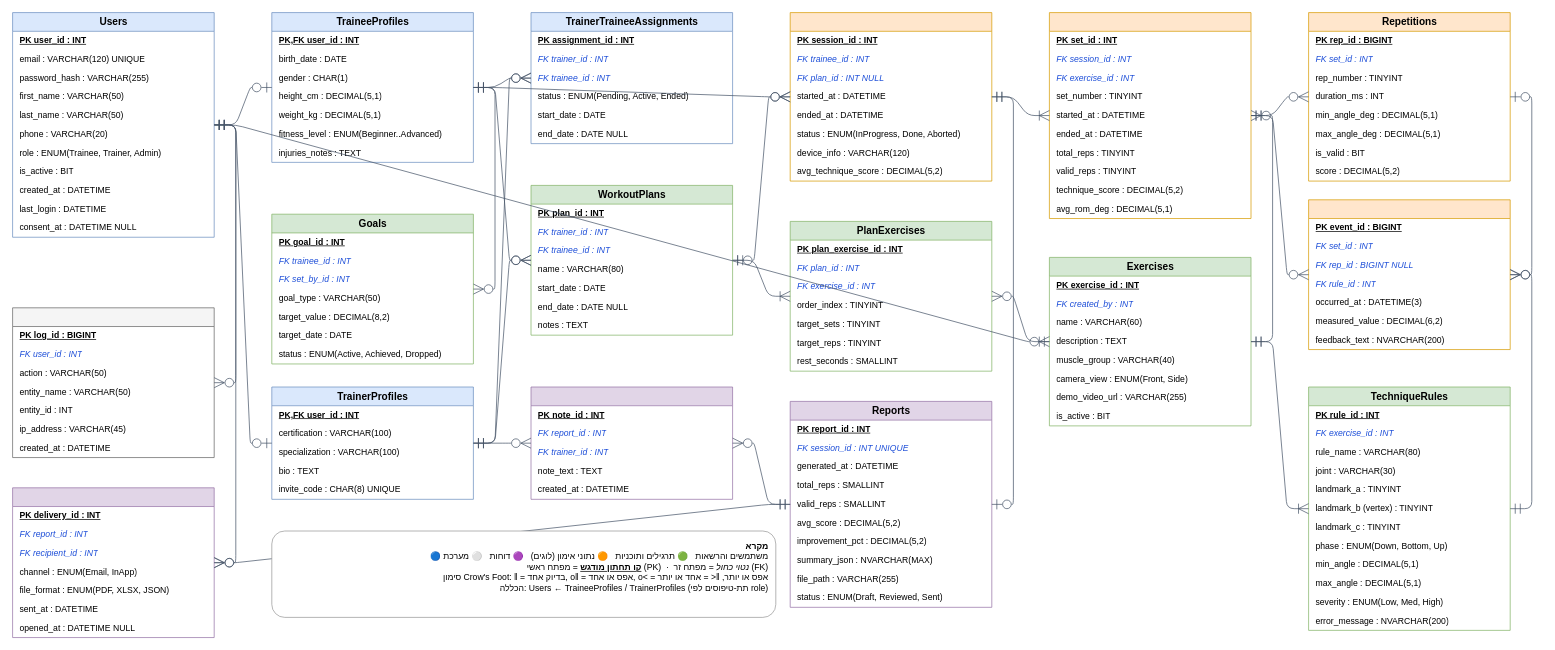
This 1555x650 diagram has some shape labels left out. The shapes that lost their labels are listed below. From the top down, each one's box as (x1, y1, x2, y2) in pixels, then its label:
(789, 12, 992, 181): WorkoutSessions
(1049, 12, 1251, 219): ExerciseSets
(1308, 199, 1510, 350): FormErrorEvents
(12, 307, 214, 458): AuditLog
(530, 386, 733, 499): TrainerNotes
(12, 487, 214, 638): ReportDeliveries
